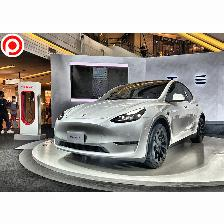EV: (56, 80, 206, 171)
